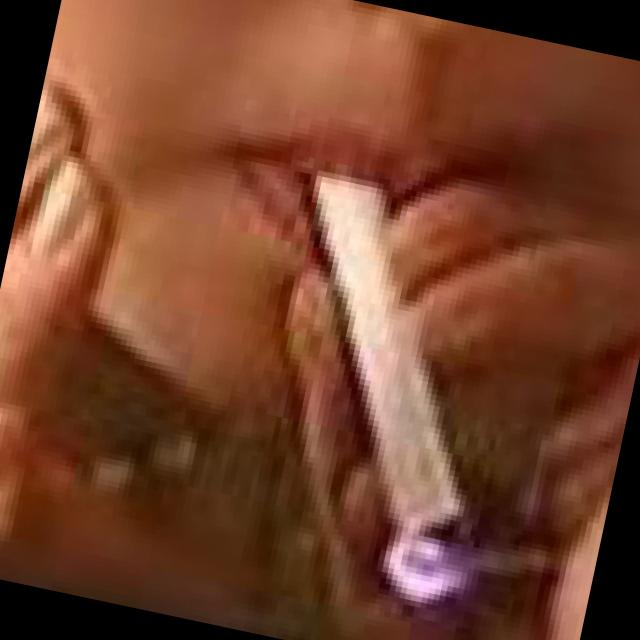cigarette: (248, 164, 548, 566)
